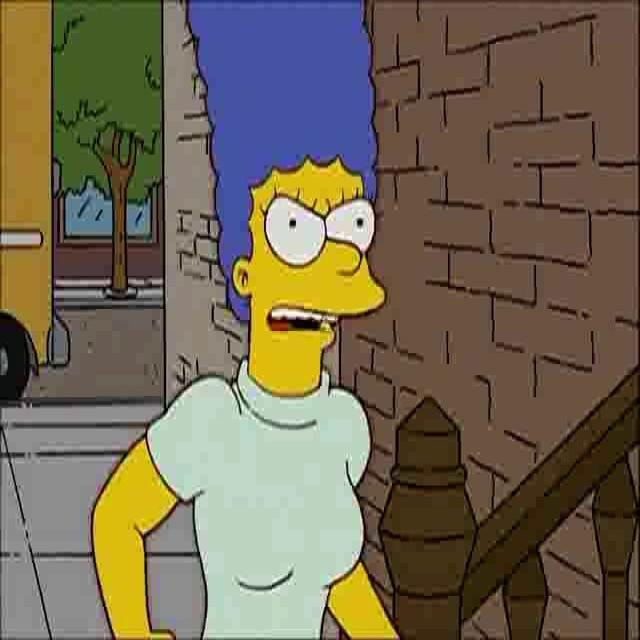Marge Simpson: (185, 1, 387, 402)
